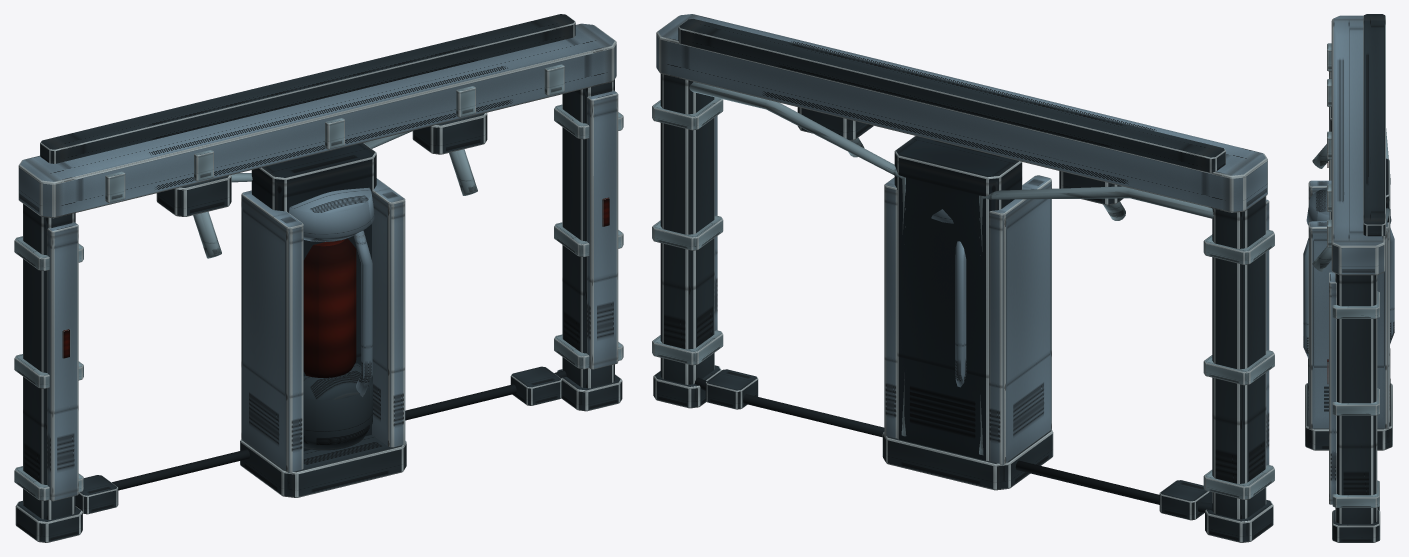
Rendered from V47_InductionStation.fbx.
3 views of the same model, side by side, from view 1: azimuth 30°, elevation 25°; view 2: azimuth 150°, elevation 25°; view 3: azimuth 270°, elevation 25° (orthographic). The views are drawn at different scales.
Visible parts, largest first — view 1: V47_InductionStation; view 2: V47_InductionStation; view 3: V47_InductionStation.
Part boxes in pixels (x1,y1,x2,y2): V47_InductionStation: (14, 14, 623, 542); V47_InductionStation: (652, 14, 1274, 542); V47_InductionStation: (1303, 14, 1394, 542).
Bounding box in the file's own units: 7.59 × 4.63 × 1.25.
